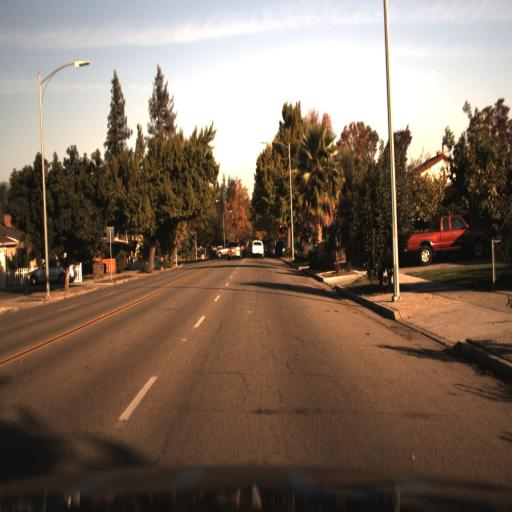car: (398, 209, 488, 264), (32, 252, 74, 283), (213, 241, 229, 262), (229, 241, 245, 260), (252, 237, 266, 257)
